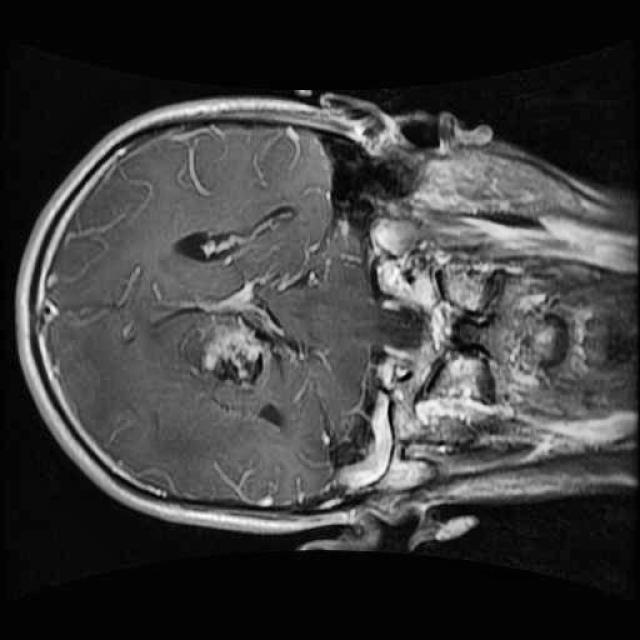Non-Tumor: (169, 299, 279, 401)
